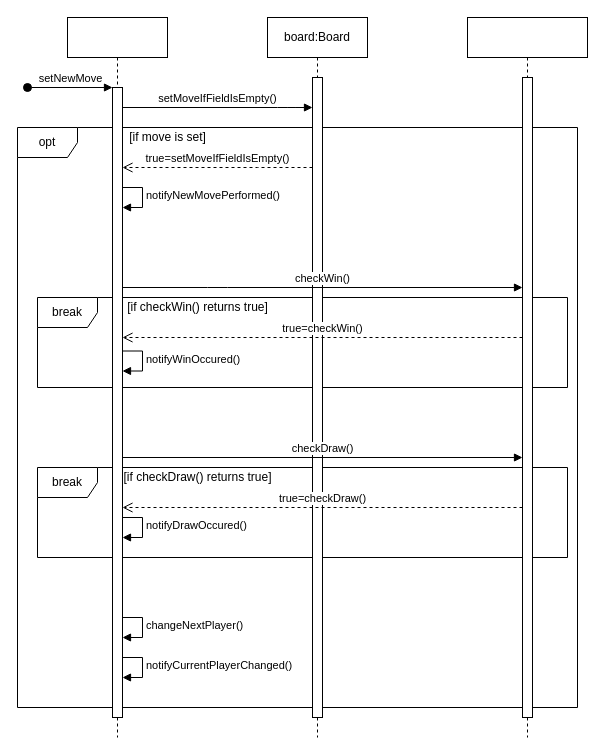
This 605x755 diagram has some shape labels left out. The shapes that lost their labels are listed below. From the top down, each one's box as (x1, y1, x2, y2) in pixels, then its label:
(66, 16, 168, 738): :Gomoku
(466, 16, 588, 738): :EndGameChecker
